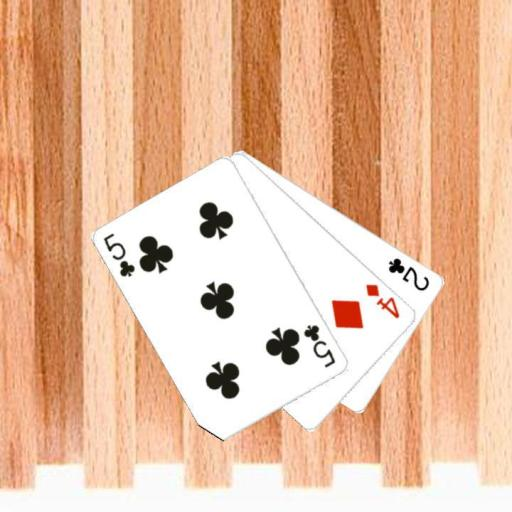2C: (386, 255, 432, 293)
4D: (363, 280, 402, 320)
5C: (101, 230, 138, 279), (301, 321, 338, 369)
